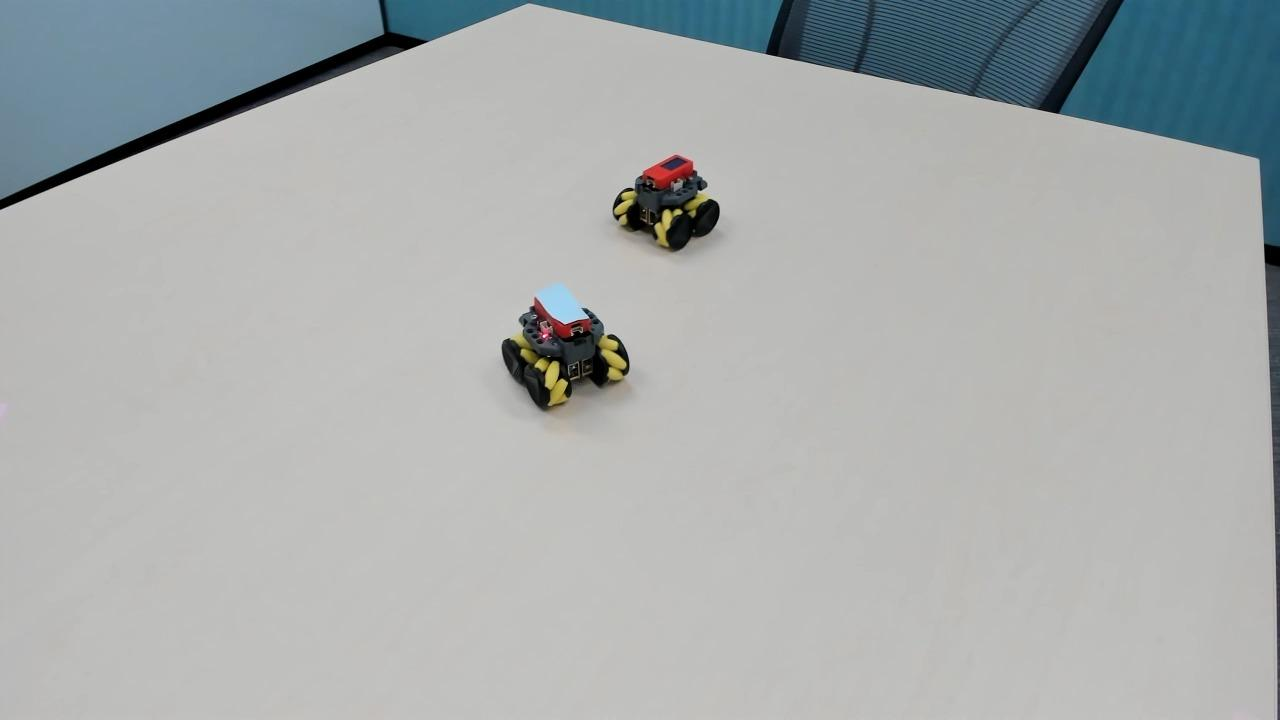B-Robot: (486, 276, 650, 425)
R-Robot: (603, 132, 729, 260)
